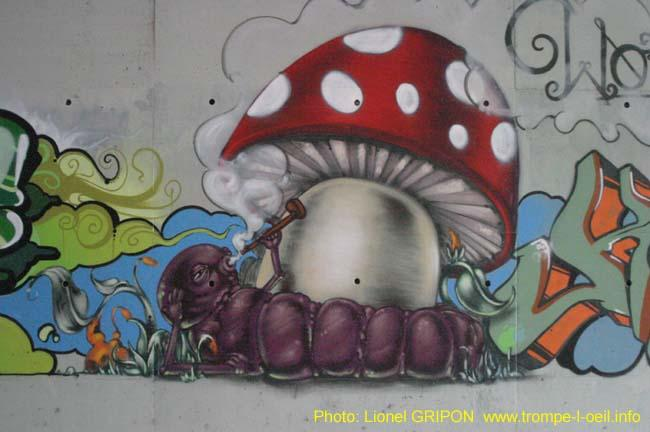graffiti: (0, 26, 649, 379), (504, 1, 650, 109)
